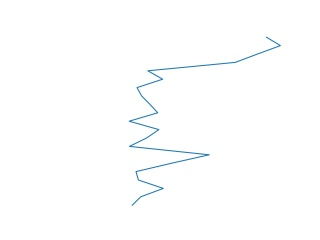crevasseRiverChannelBar: (126, 34, 283, 209)
